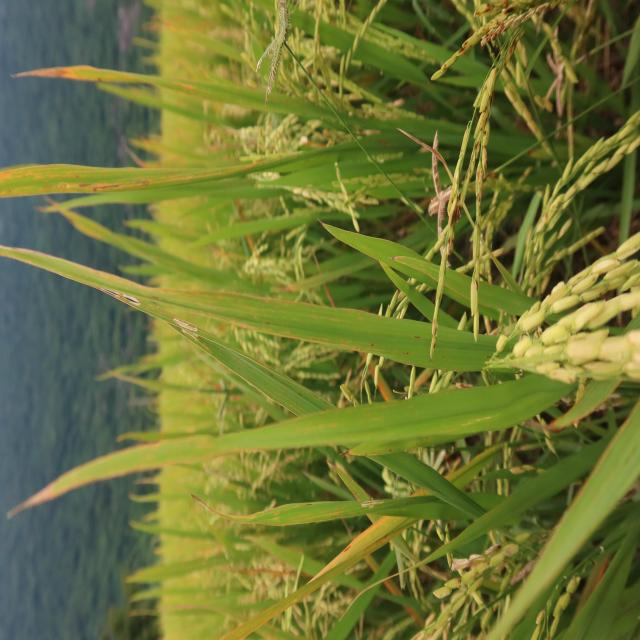Dom soc vi khuan: (88, 267, 261, 331), (0, 164, 253, 197)
